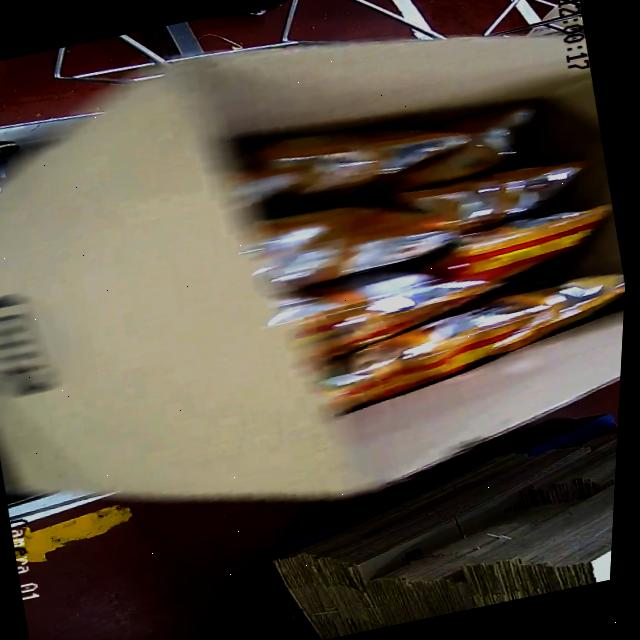FRENCH_CHEESE: (255, 74, 636, 435)
